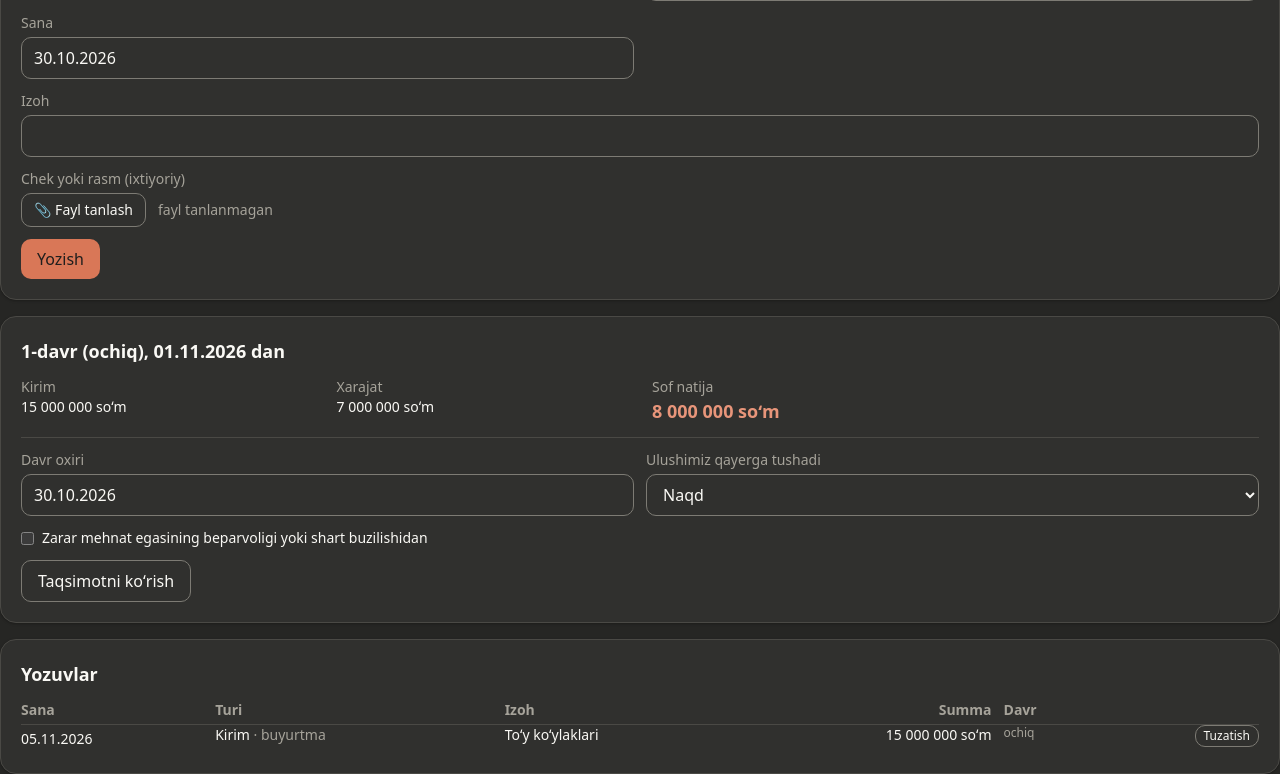
Test: LedgerView › taqsimot yadrodan keladi; yopish oldindan ko'rishdan keyin chiqadi
This screenshot has width=1280, height=774.
(page scrolled)
Click the button "Taqsimotni koʻrish" at (106, 581), box top-left (21, 560), bottom-right (191, 602)
(page scrolled)
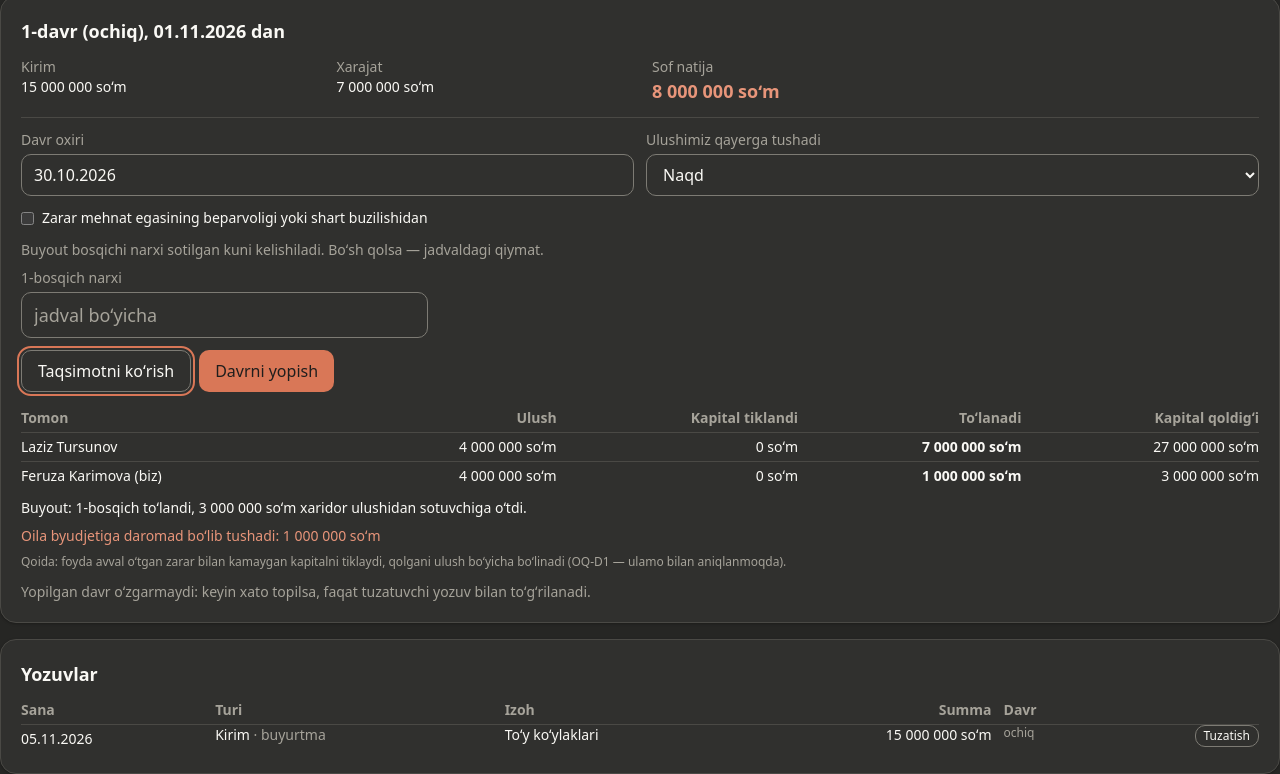
Check: the button "Davrni yopish" is shown, box top-left (199, 350), bottom-right (334, 392)
Check: the text "Oila byudjetiga daromad boʻlib tushadi: 1 000 000 soʻm" is shown, box top-left (21, 526), bottom-right (380, 545)
Check: the text "Buyout: 1-bosqich toʻlandi, 3 000 000 soʻm xaridor ulushidan sotuvchiga oʻtdi." is shown, box top-left (21, 498), bottom-right (527, 517)
